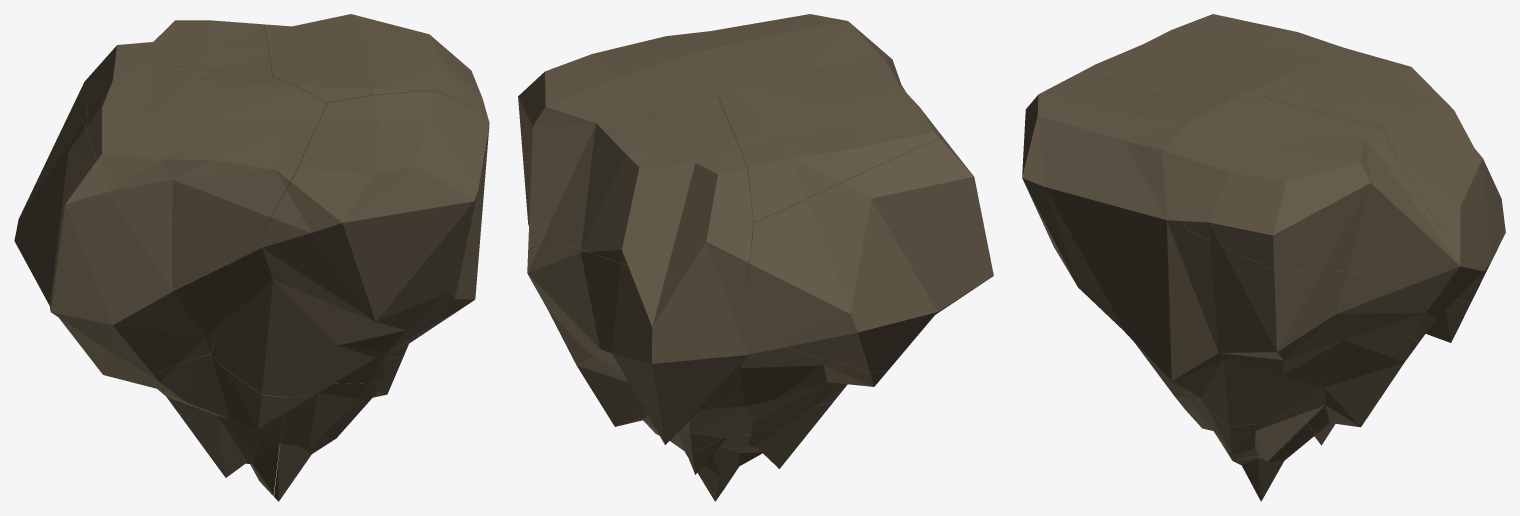
Rendered from Rock island broke.fbx.
The picture shows the model from 3 angles, left to right: view 1: azimuth 30°, elevation 25°; view 2: azimuth 150°, elevation 25°; view 3: azimuth 270°, elevation 25°; orthographic projection. The views are drawn at different scales.
Parts seen in each view (by area): view 1: Cube.013_cell.020, Cube.013_cell.023, Cube.013_cell.016, Cube.013_cell.015, Cube.013_cell.014, Cube.013_cell.022, Cube.013_cell.018, Cube.013_cell.017, Cube.013_cell.019; view 2: Cube.013_cell.023, Cube.013_cell.022, Cube.013_cell.021, Cube.013_cell.016, Cube.013_cell.015, Cube.013_cell.017, Cube.013_cell.020, Cube.013_cell.012, Cube.013_cell.014, Cube.013_cell.013; view 3: Cube.013_cell.015, Cube.013_cell.020, Cube.013_cell.019, Cube.013_cell.016, Cube.013_cell.022, Cube.013_cell.021, Cube.013_cell.018, Cube.013_cell.013, Cube.013_cell.012.
Boxes of the visible parts, left/top/right/bottom form: Cube.013_cell.020: left=210, top=90, right=489, bottom=397; Cube.013_cell.023: left=14, top=100, right=240, bottom=374; Cube.013_cell.016: left=85, top=59, right=327, bottom=270; Cube.013_cell.015: left=264, top=14, right=486, bottom=113; Cube.013_cell.014: left=180, top=367, right=285, bottom=495; Cube.013_cell.022: left=65, top=20, right=272, bottom=122; Cube.013_cell.018: left=274, top=355, right=403, bottom=501; Cube.013_cell.017: left=92, top=332, right=221, bottom=414; Cube.013_cell.019: left=389, top=234, right=480, bottom=357; Cube.013_cell.023: left=746, top=138, right=993, bottom=372; Cube.013_cell.022: left=551, top=96, right=753, bottom=282; Cube.013_cell.021: left=527, top=239, right=782, bottom=402; Cube.013_cell.016: left=718, top=52, right=943, bottom=223; Cube.013_cell.015: left=518, top=38, right=742, bottom=249; Cube.013_cell.017: left=621, top=358, right=887, bottom=453; Cube.013_cell.020: left=659, top=14, right=903, bottom=88; Cube.013_cell.012: left=605, top=320, right=817, bottom=444; Cube.013_cell.014: left=652, top=401, right=833, bottom=498; Cube.013_cell.013: left=564, top=341, right=679, bottom=437; Cube.013_cell.015: left=1169, top=97, right=1445, bottom=283; Cube.013_cell.020: left=1022, top=70, right=1188, bottom=377; Cube.013_cell.019: left=1161, top=231, right=1418, bottom=426; Cube.013_cell.016: left=1084, top=14, right=1383, bottom=103; Cube.013_cell.022: left=1264, top=59, right=1486, bottom=229; Cube.013_cell.021: left=1408, top=146, right=1505, bottom=341; Cube.013_cell.018: left=1161, top=377, right=1315, bottom=501; Cube.013_cell.013: left=1293, top=335, right=1419, bottom=433; Cube.013_cell.012: left=1426, top=287, right=1478, bottom=342.
Size of the model in its own units: 302 by 270 by 292.
